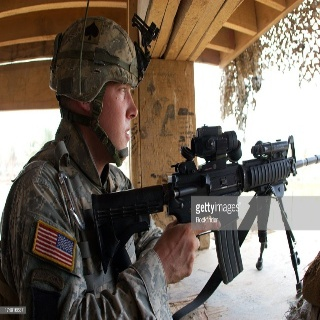rifle: (91, 124, 320, 285)
